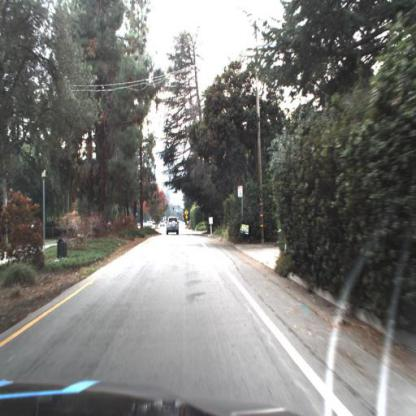car: (165, 215, 182, 238)
